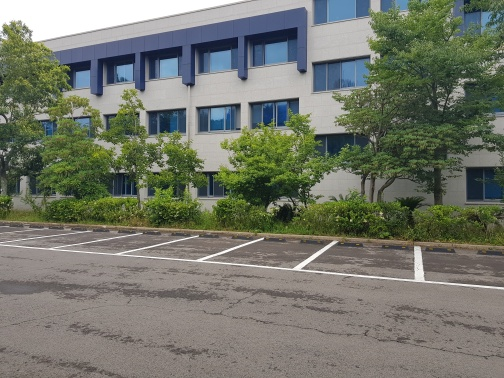College of Social Sciences: (39, 1, 502, 223)
